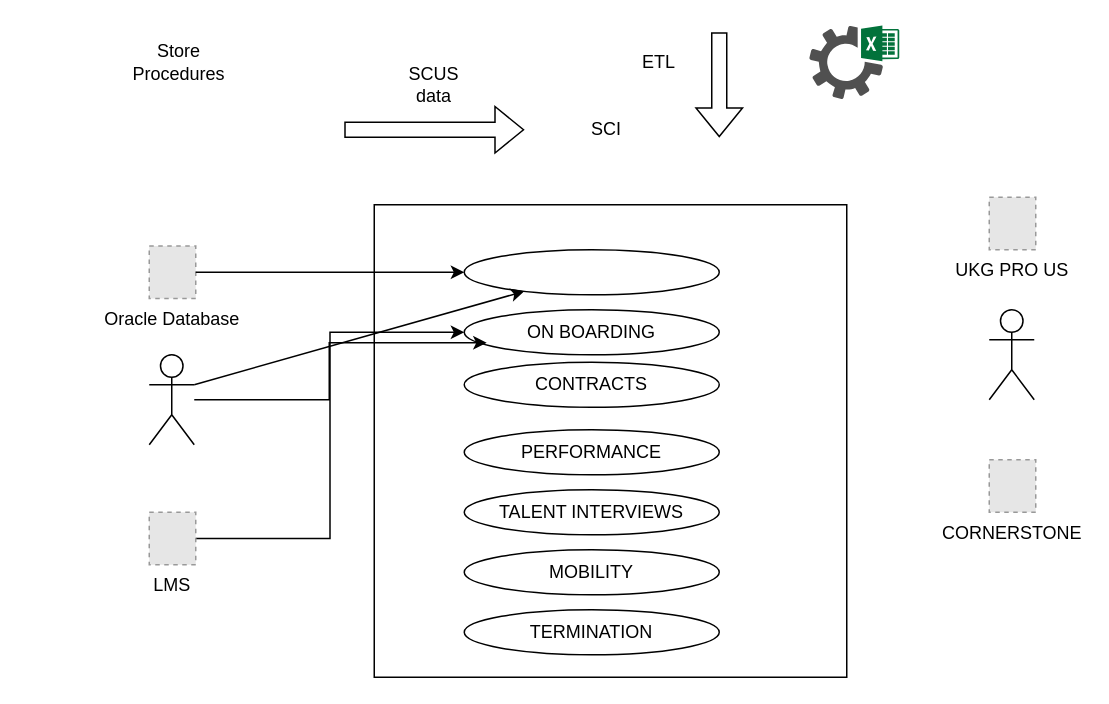
Image size: 1109x704. Some labels were removed from this diagram. Grey dashed boxes stand in for pictures. Each missing label, with the centre of its shape:
"RECRUITMENT" belongs at (591,271).
"REPORTS" belongs at (853,61).
"SCUS" belongs at (1011,354).
"SCUSI national and TCN staff" belongs at (171,399).
